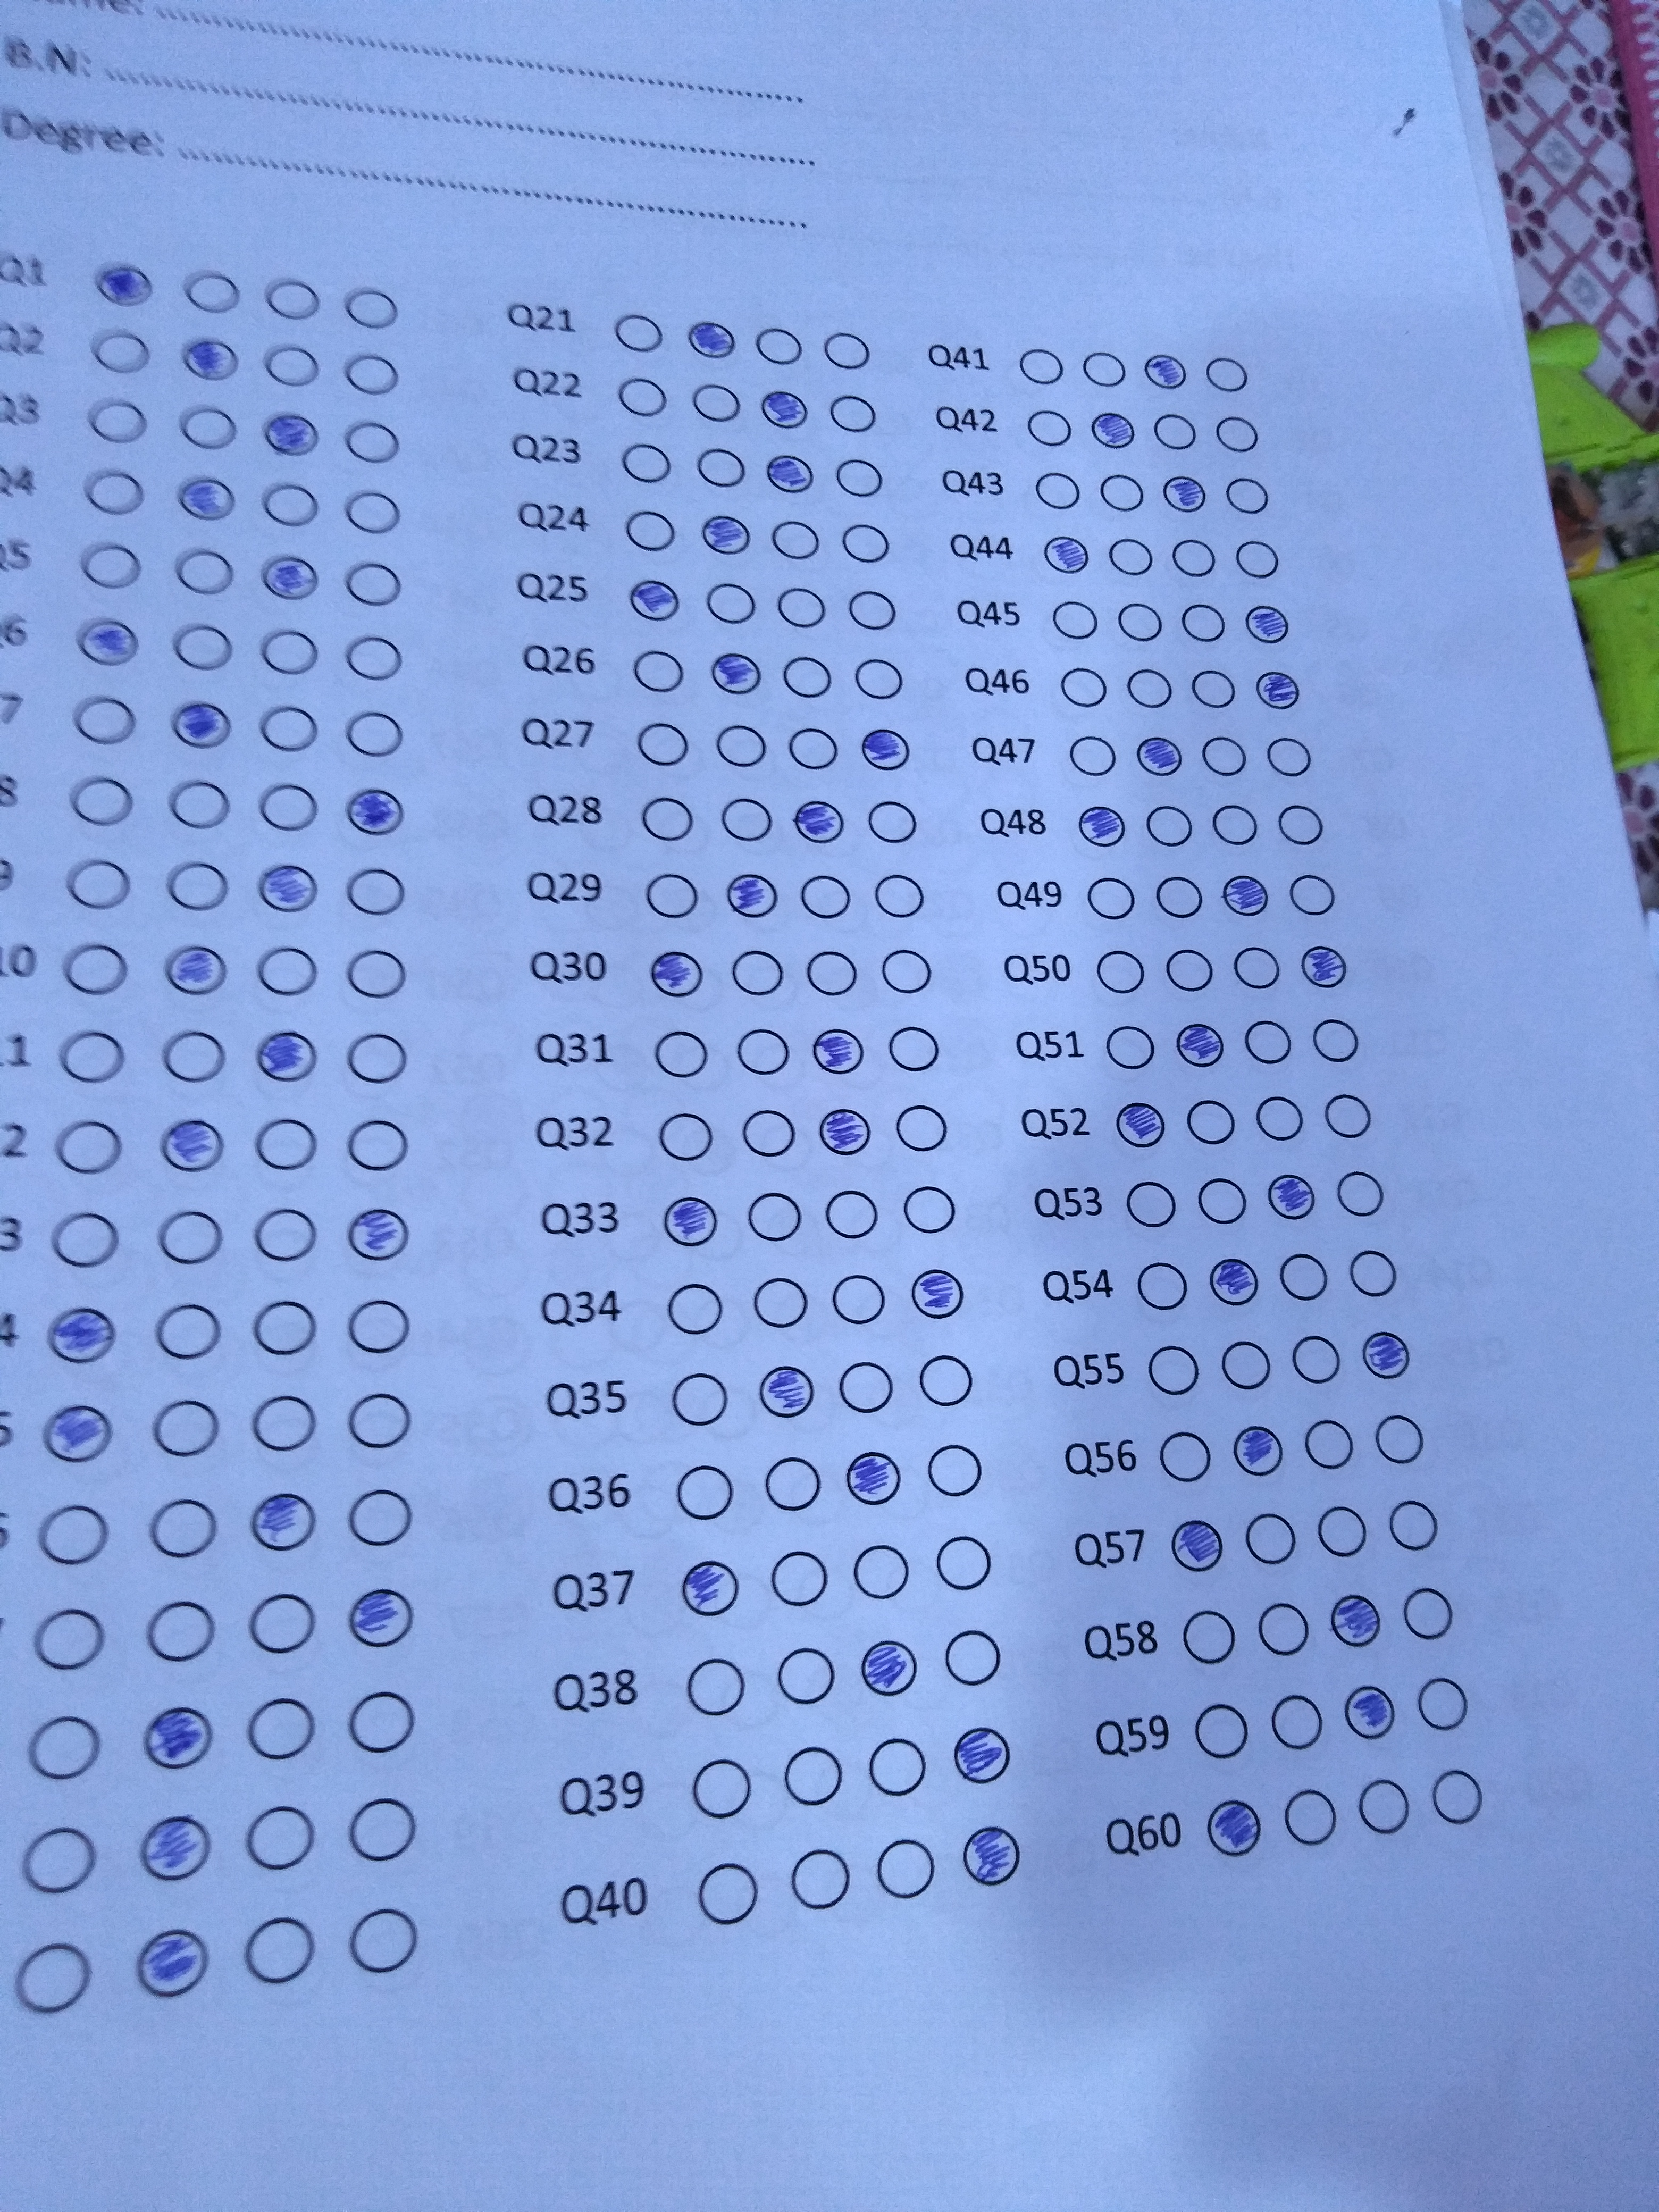not-c: (12, 1937, 92, 2015), (19, 1824, 99, 1902), (24, 1710, 105, 1789), (150, 1021, 230, 1099), (49, 1108, 127, 1186), (47, 1017, 127, 1094), (240, 1912, 319, 1989), (145, 1390, 223, 1467), (148, 1296, 227, 1372), (152, 1198, 230, 1275), (47, 1202, 125, 1278), (345, 1686, 422, 1759), (345, 1904, 420, 1977), (345, 1796, 420, 1869), (343, 1484, 418, 1557), (145, 1494, 221, 1562), (37, 1503, 113, 1569), (242, 1804, 319, 1871), (345, 1388, 415, 1456), (694, 1862, 762, 1930), (788, 1846, 856, 1914), (873, 1838, 941, 1905), (343, 1294, 411, 1362), (688, 1756, 755, 1822), (251, 1392, 319, 1456), (246, 1696, 314, 1761), (35, 1608, 103, 1672), (249, 1594, 317, 1656), (146, 1599, 213, 1662), (347, 1118, 413, 1179), (251, 1301, 317, 1362), (343, 944, 410, 1005), (256, 941, 322, 1001), (254, 1116, 321, 1176), (253, 1209, 319, 1268), (342, 1028, 408, 1087), (63, 939, 129, 998), (66, 697, 139, 749), (78, 540, 152, 592), (77, 469, 150, 521), (1279, 1789, 1340, 1851), (1425, 1766, 1486, 1829), (866, 1738, 927, 1801), (64, 775, 136, 827), (836, 1357, 897, 1418), (669, 1371, 730, 1432), (1356, 1777, 1417, 1838), (782, 1749, 843, 1810), (664, 1278, 727, 1338), (1415, 1674, 1474, 1737), (829, 1271, 890, 1331), (823, 1184, 884, 1244), (744, 1191, 805, 1251), (741, 1108, 802, 1167), (655, 1109, 716, 1169), (653, 1026, 714, 1085), (751, 1277, 812, 1336), (676, 1463, 737, 1522), (762, 1456, 823, 1515), (769, 1550, 829, 1609), (852, 1540, 913, 1599), (934, 1534, 995, 1594), (943, 1627, 1004, 1686), (774, 1646, 835, 1705), (685, 1656, 746, 1716), (256, 340, 324, 392), (256, 704, 321, 758), (258, 481, 322, 535), (85, 397, 153, 448), (174, 401, 242, 451), (87, 327, 155, 378), (260, 627, 322, 681), (68, 859, 131, 913), (164, 862, 228, 914), (258, 275, 324, 326), (338, 282, 404, 333), (1243, 1510, 1300, 1568), (1255, 1601, 1312, 1658), (1178, 1609, 1236, 1667), (1269, 1695, 1326, 1752), (1194, 1703, 1251, 1761), (171, 545, 234, 597), (171, 620, 234, 672), (167, 779, 230, 831), (178, 266, 244, 315), (927, 1440, 983, 1498), (1399, 1585, 1455, 1641), (1385, 1496, 1441, 1552), (1373, 1413, 1429, 1468), (1148, 1341, 1204, 1397), (1101, 1019, 1157, 1075), (1093, 946, 1148, 1001), (1161, 944, 1216, 1000), (1303, 1416, 1358, 1472), (1316, 1503, 1370, 1559), (1157, 1430, 1213, 1484), (1138, 1259, 1194, 1313), (1124, 1179, 1178, 1235), (1192, 1176, 1248, 1230), (1216, 1339, 1272, 1393), (735, 1028, 793, 1080), (901, 1183, 958, 1235), (917, 1355, 974, 1407), (345, 350, 404, 401), (345, 418, 404, 469), (345, 559, 404, 610), (347, 867, 406, 918), (260, 780, 319, 831), (1185, 1096, 1239, 1150), (885, 1024, 941, 1076), (896, 1103, 951, 1155), (620, 439, 678, 489), (343, 488, 403, 536), (343, 631, 403, 679), (342, 707, 401, 756), (784, 723, 840, 773), (702, 580, 758, 631), (640, 794, 695, 845), (777, 655, 835, 704), (774, 587, 831, 636), (767, 516, 824, 564), (720, 794, 777, 843), (643, 869, 701, 918), (1080, 876, 1138, 925), (694, 444, 749, 493), (624, 505, 680, 554), (631, 646, 687, 695), (634, 721, 690, 770), (713, 721, 769, 770), (610, 310, 669, 355), (805, 949, 859, 998), (615, 376, 674, 420), (688, 381, 748, 425), (751, 324, 810, 368), (1312, 1014, 1363, 1064), (1323, 1090, 1373, 1141), (1335, 1169, 1385, 1219), (1349, 1249, 1399, 1299), (1063, 732, 1115, 780), (1032, 470, 1084, 519), (1243, 1019, 1295, 1068), (1253, 1092, 1305, 1141), (1277, 1254, 1330, 1303), (1290, 1334, 1342, 1383), (880, 948, 932, 996), (1155, 874, 1208, 921), (1143, 803, 1195, 850), (1046, 597, 1098, 644), (1023, 402, 1075, 449), (1016, 347, 1068, 394), (1077, 345, 1129, 392), (730, 951, 782, 998), (833, 456, 887, 502), (840, 521, 894, 566), (852, 657, 906, 702), (1058, 662, 1108, 709), (847, 585, 899, 631), (873, 871, 925, 916), (800, 874, 852, 920), (1201, 733, 1251, 779), (1263, 733, 1314, 779), (1276, 801, 1326, 846), (1209, 801, 1260, 846), (1288, 871, 1338, 916), (864, 801, 917, 845), (1232, 946, 1283, 989), (826, 394, 880, 434), (1098, 472, 1148, 514), (1107, 536, 1157, 578), (1115, 603, 1166, 644), (1190, 667, 1241, 709), (1178, 604, 1229, 646), (1169, 535, 1220, 577), (1230, 538, 1281, 580), (1222, 475, 1272, 517), (1201, 354, 1251, 395), (1152, 413, 1202, 455), (823, 333, 875, 373), (1124, 667, 1175, 707), (1213, 415, 1263, 455)
taken-c: (141, 1703, 216, 1775), (134, 1928, 209, 2000), (955, 1822, 1030, 1893), (138, 1811, 211, 1883), (42, 1402, 115, 1467), (47, 1305, 118, 1369), (247, 1489, 319, 1554), (347, 1587, 418, 1651), (951, 1726, 1018, 1791), (859, 1639, 924, 1703), (680, 1561, 744, 1625), (843, 1444, 908, 1508), (756, 1362, 821, 1426), (1204, 1797, 1265, 1860), (345, 1205, 411, 1263), (167, 698, 237, 752), (338, 784, 408, 838), (254, 862, 324, 916), (162, 944, 232, 998), (253, 1029, 319, 1085), (159, 1118, 225, 1174), (659, 1195, 718, 1254), (650, 946, 708, 1007), (910, 1266, 967, 1325), (817, 1106, 875, 1165), (810, 1024, 868, 1083), (1169, 1517, 1227, 1575), (1342, 1684, 1399, 1740), (178, 334, 240, 385), (256, 409, 319, 460), (174, 474, 237, 524), (258, 554, 321, 604), (1326, 1594, 1382, 1649), (94, 261, 157, 310), (77, 618, 139, 667), (1361, 1327, 1413, 1383), (1232, 1421, 1284, 1477), (697, 510, 751, 563), (793, 798, 849, 848), (857, 726, 913, 777), (627, 577, 683, 627), (727, 871, 781, 921), (711, 648, 765, 698), (762, 449, 816, 500), (756, 383, 810, 434), (687, 314, 741, 364), (1114, 1099, 1166, 1150), (1265, 1172, 1317, 1223), (1208, 1258, 1260, 1308), (1173, 1022, 1227, 1069), (1220, 873, 1269, 920), (1134, 735, 1185, 780), (1077, 805, 1126, 850), (1298, 944, 1347, 989), (1141, 350, 1190, 394), (1087, 408, 1136, 451), (1161, 472, 1209, 516), (1244, 603, 1291, 646), (1042, 535, 1091, 577), (1253, 669, 1302, 711)
